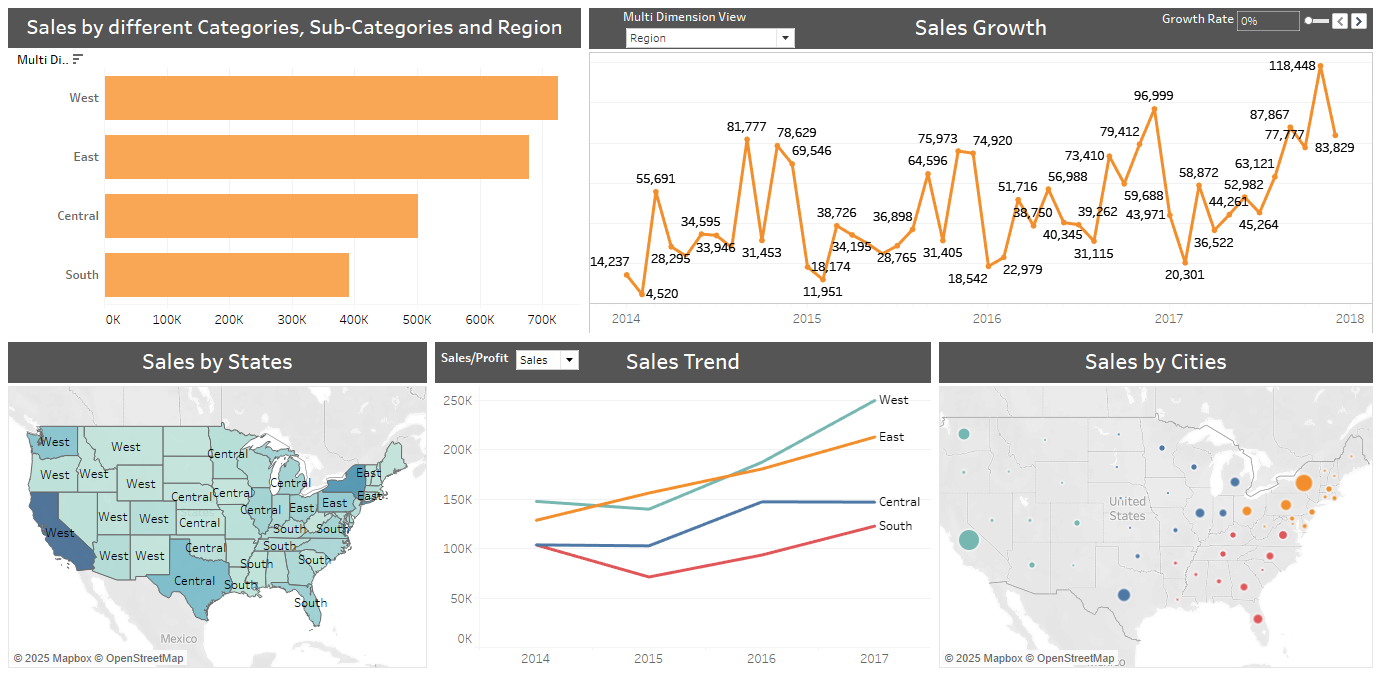

Layout of this report page (visuals, bound fields, positions):
{"tool":"tableau","page":{"name":"Superstore Dashboard","canvas":[1000,1000],"units":"permille","ordinal":0},"visuals":[{"type":"worksheet","title":"Sales/Profit by Different Aspects","mark":"Automatic","rows":["Calculation_827536486978531328"],"cols":["Calculation_827536487000260609"],"box":[8.1,15.3,416.3,484.7]},{"type":"worksheet","title":"Sales/Profit Change","mark":"Automatic","rows":["Calculation_827536487000260609","Calculation_827536487007801346"],"cols":["Order Date"],"box":[424.4,15.3,567.5,484.7]},{"type":"parameter","param":"[Parameters].[Parameter 1]","box":[451.4,17.5,126,62.9]},{"type":"parameter","param":"[Parameters].[Parameter 3]","box":[839.5,17.5,149.8,57]},{"type":"worksheet","title":"Sales/Proft by States","mark":"Automatic","box":[8.1,500,305.6,484.7]},{"type":"worksheet","title":"Sales/Profit Trend","mark":"Automatic","rows":["Calculation_827536487000260609"],"cols":["Order Date"],"box":[313.7,500,361.5,484.7]},{"type":"worksheet","title":"Sales/Profit by Cities","mark":"Automatic","box":[675.2,500,316.7,484.7]},{"type":"parameter","param":"[Parameters].[Parameter 2]","box":[320.4,513.2,101.5,40.9]}]}

Visuals, with their boxes on the dashboard's canvas, which has no fixed pixel size, in thousandths of its width and height (x1, y1, x2, y2). These are canvas units, not pixel positions in the 1381x676 screenshot, which may show the page scaled, cropped or inside an application window:
"Sales/Profit by Different Aspects" worksheet: bbox=[8, 15, 424, 500]
"Sales/Profit Change" worksheet: bbox=[424, 15, 992, 500]
parameter: bbox=[451, 18, 577, 80]
parameter: bbox=[840, 18, 989, 74]
"Sales/Proft by States" worksheet: bbox=[8, 500, 314, 985]
"Sales/Profit Trend" worksheet: bbox=[314, 500, 675, 985]
"Sales/Profit by Cities" worksheet: bbox=[675, 500, 992, 985]
parameter: bbox=[320, 513, 422, 554]
